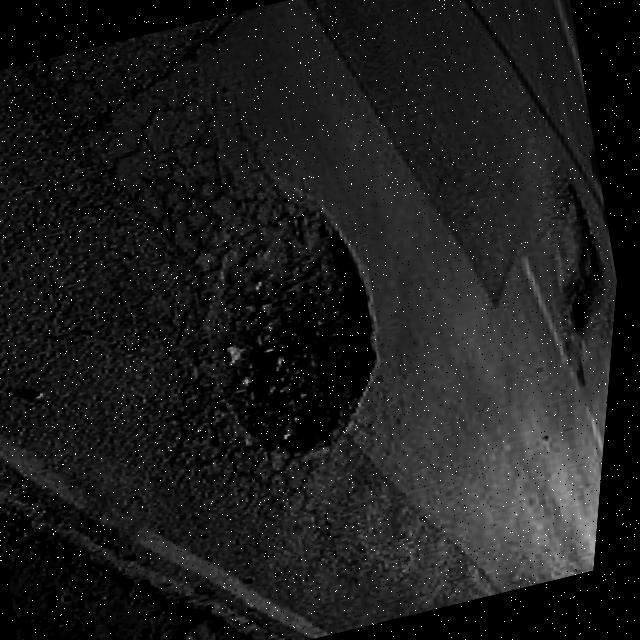pothole: (160, 196, 424, 487)
